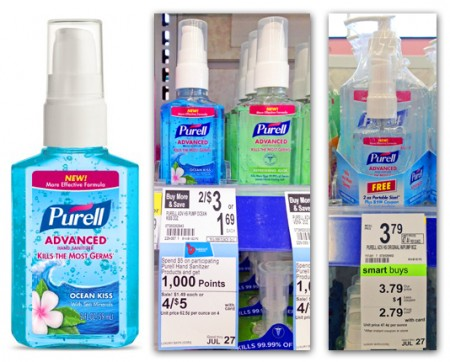Sanitizer: (9, 12, 143, 352), (337, 13, 429, 206), (158, 13, 228, 189), (231, 14, 303, 185), (358, 49, 408, 209)
